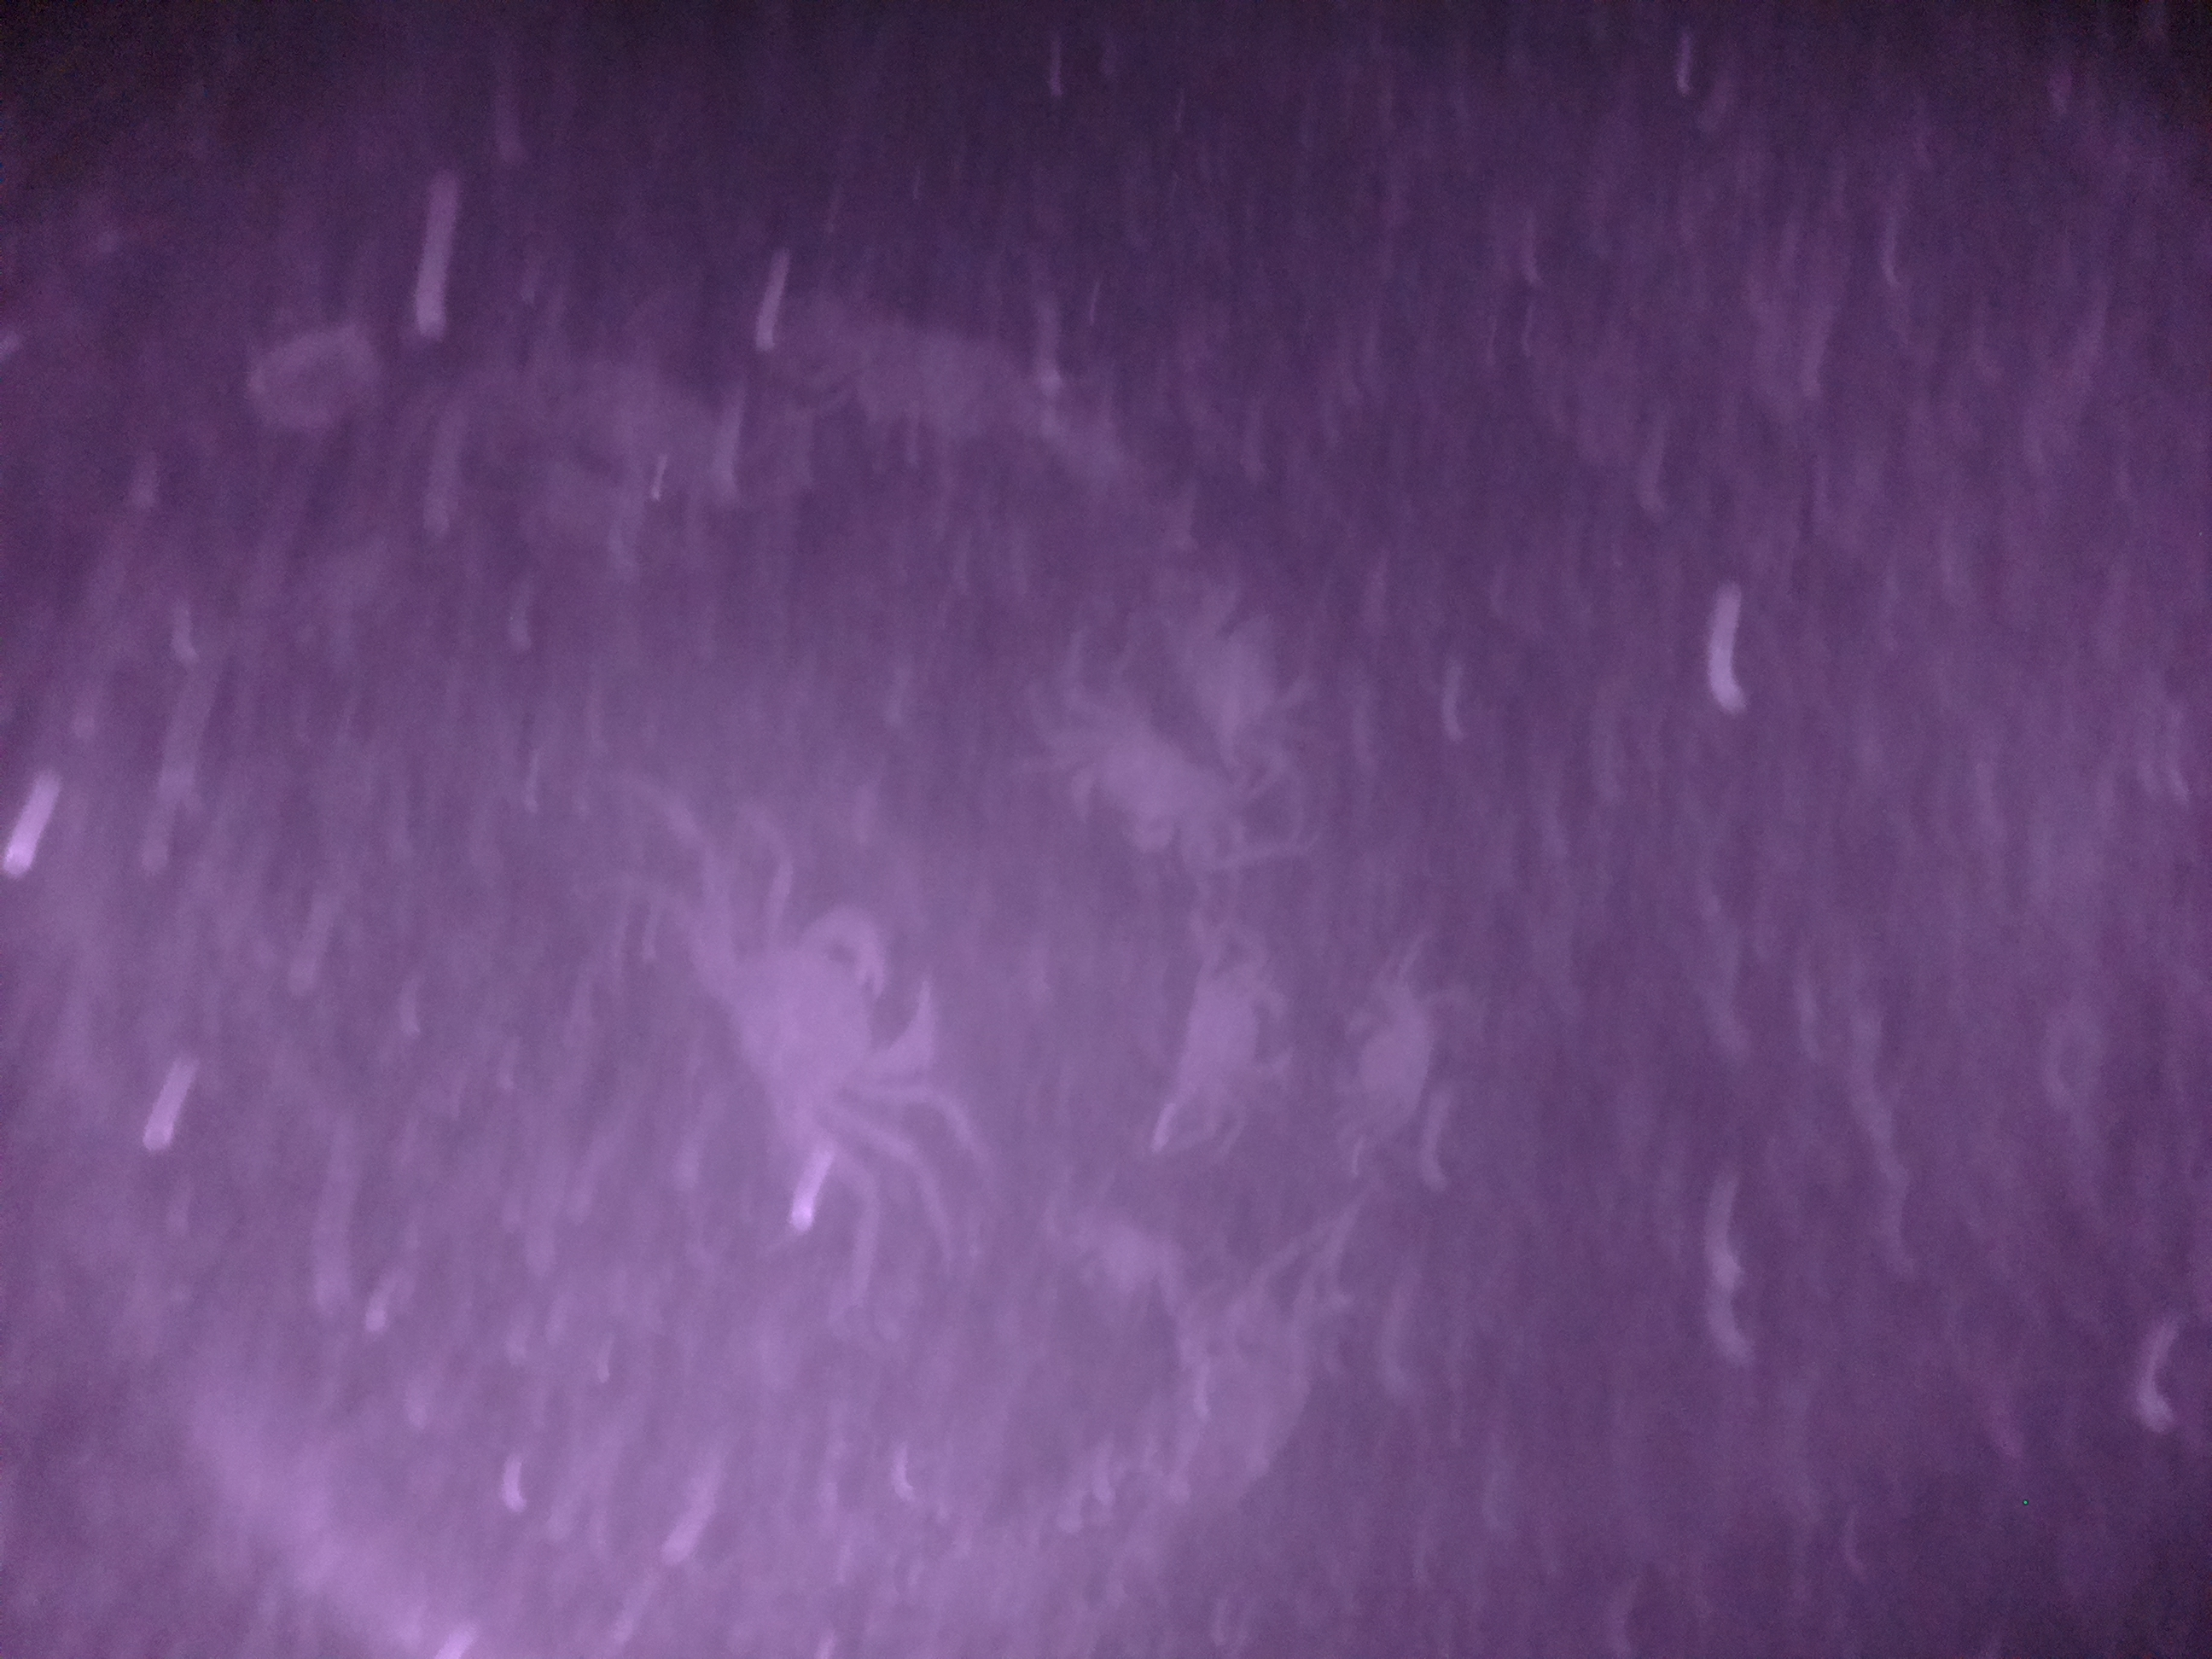Crab: (662, 885, 963, 1168), (1158, 925, 1315, 1133), (1047, 694, 1221, 864), (1327, 965, 1463, 1155)
